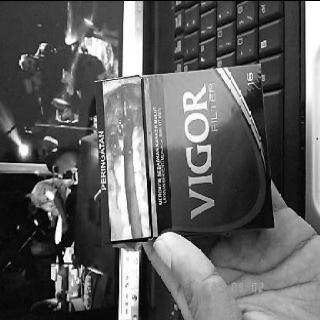objects: (96, 62, 274, 242)
